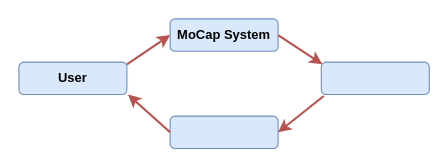
This 448x167 diagram has some shape labels left out. The shapes that lost their labels are listed below. From the top down, each one's centre as x and y in pixels, then its label:
At (x=374, y=77): "Central Unit".
At (x=223, y=131): "HMD".
